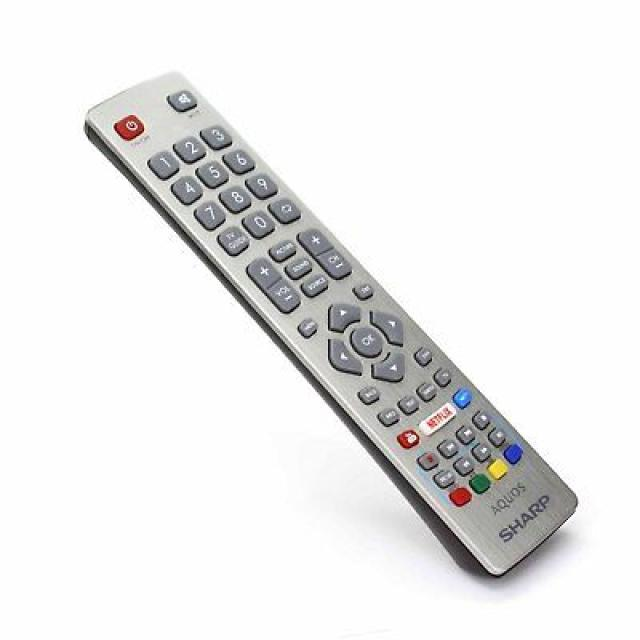remote: (80, 62, 581, 581)
